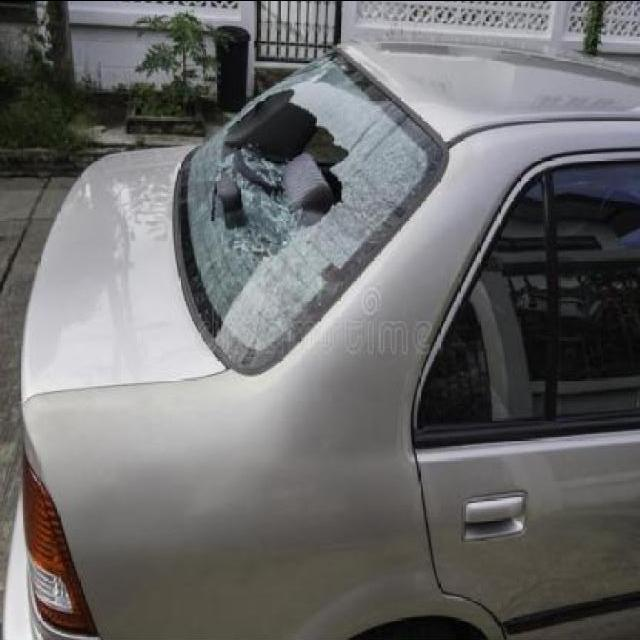Rear-windscreen-Damage: (168, 58, 429, 387)
